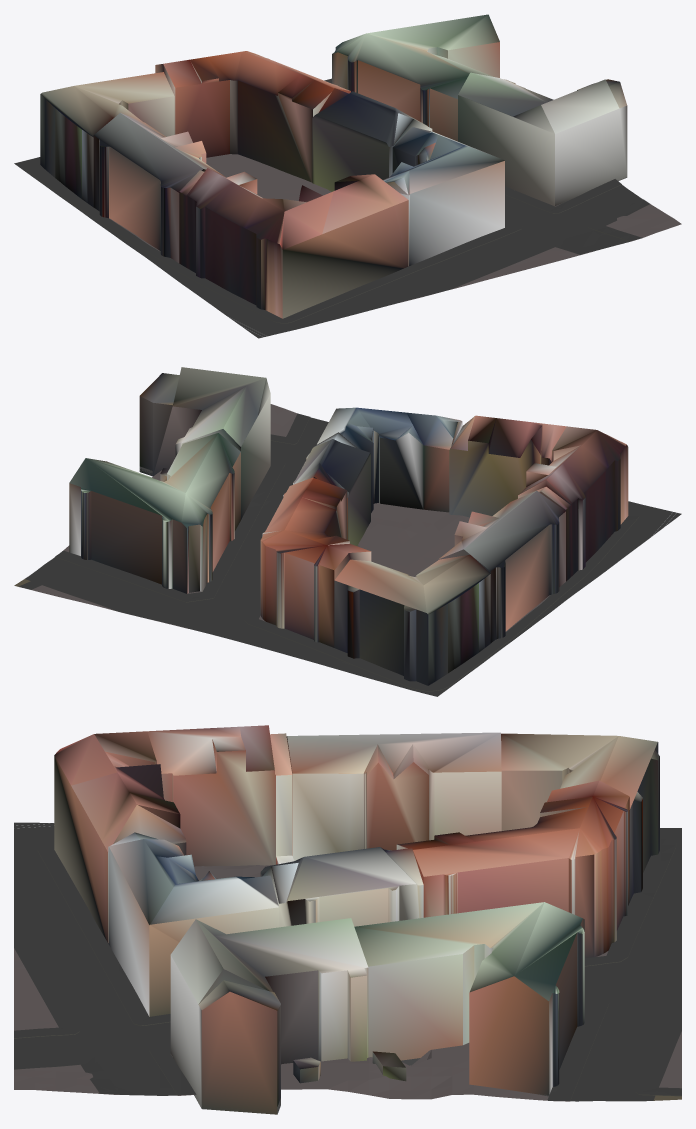
3 renders of one model, top to bottom at view 1: azimuth 30°, elevation 25°; view 2: azimuth 150°, elevation 25°; view 3: azimuth 270°, elevation 25°, orthographic. The views are drawn at different scales.
Visible parts, largest first — view 1: c_m13_m05; view 2: c_m13_m05; view 3: c_m13_m05.
Part boxes in pixels (<box>): c_m13_m05: <box>14,14,681,338</box>; c_m13_m05: <box>14,367,681,696</box>; c_m13_m05: <box>14,725,681,1114</box>.
Bounding box in the file's own units: 135 × 34.08 × 128.
